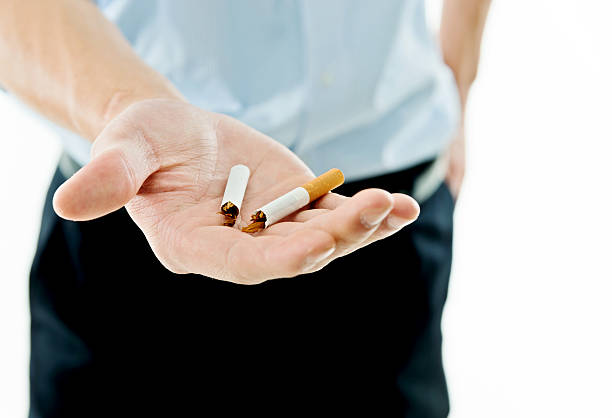cigarette: (243, 166, 346, 235), (220, 164, 252, 222)
